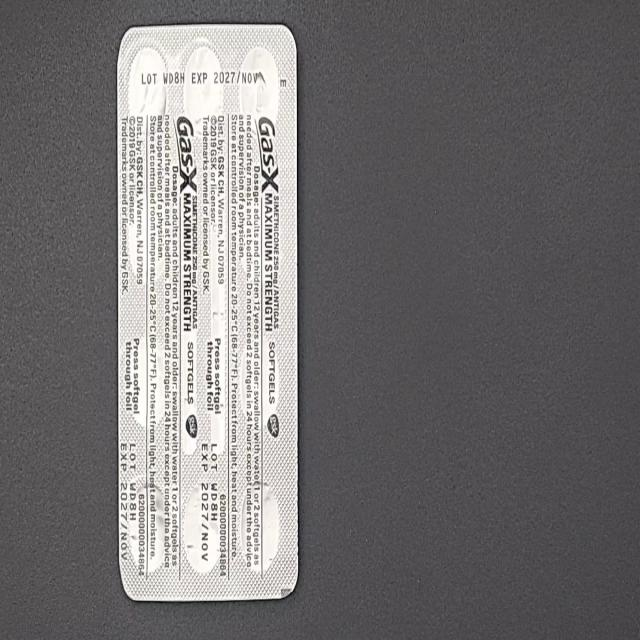no defect: (8, 12, 27, 58)
